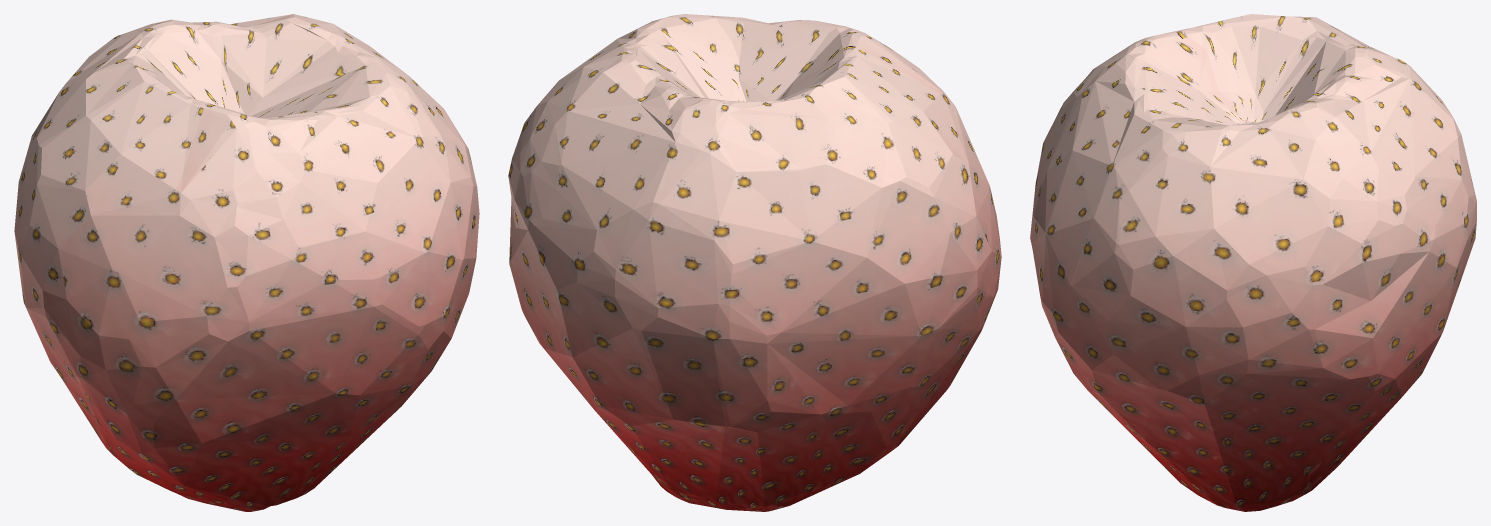
3 renders of one model, left to right at view 1: azimuth 30°, elevation 25°; view 2: azimuth 150°, elevation 25°; view 3: azimuth 270°, elevation 25°, orthographic. The views are drawn at different scales.
Parts seen in each view (by area): view 1: _000_Meshed; view 2: _000_Meshed; view 3: _000_Meshed.
Part boxes in pixels (bbox=[...]): _000_Meshed: bbox=[14, 14, 479, 511]; _000_Meshed: bbox=[508, 14, 1001, 511]; _000_Meshed: bbox=[1030, 14, 1476, 511].
Bounding box in the file's own units: 0.1127 × 0.1067 × 0.1146.
Materials: 1 (1 with a texture image).
